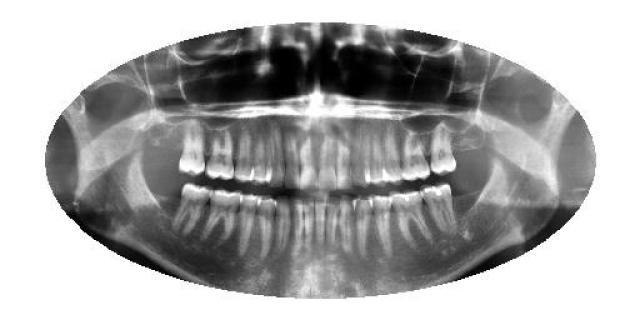Fillings: (388, 188, 432, 248), (422, 184, 460, 241)
